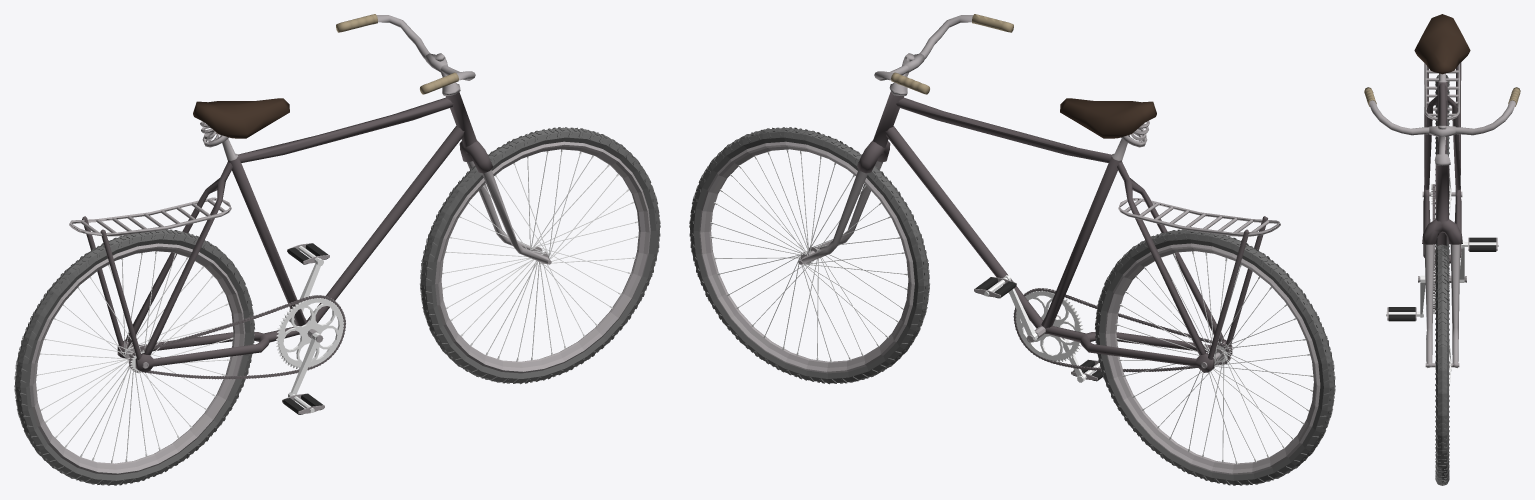
File: old_bicycle.glb
The picture shows the model from 3 angles, left to right: view 1: azimuth 30°, elevation 25°; view 2: azimuth 150°, elevation 25°; view 3: azimuth 270°, elevation 25°; orthographic projection. The views are drawn at different scales.
Visible parts, largest first — view 1: Bicycle-Body, Bicycle-Front-Tire, Bicycle-Back-Tire, Bicycle-Front-Tire-Ring, Bicycle-Back-Tire-Ring, Bicycle-Seat, Bicycle-Front-Tire-Pattern, Bicycle-Back-Tire-Pattern, Bicycle-Center-Gear, Bicycle-Tark, Bicycle-HandleBars, Bicycle-Chain (+9 smaller); view 2: Bicycle-Body, Bicycle-Front-Tire, Bicycle-Back-Tire, Bicycle-Front-Tire-Ring, Bicycle-Back-Tire-Ring, Bicycle-Seat, Bicycle-Front-Tire-Pattern, Bicycle-Back-Tire-Pattern, Bicycle-Tark, Bicycle-HandleBars, Bicycle-Center-Gear, Bicycle-Chain (+9 smaller); view 3: Bicycle-Body, Bicycle-Front-Tire, Bicycle-Seat, Bicycle-Front-Tire-Pattern, Bicycle-HandleBars, Bicycle-Tark, Bicycle-Pedals, Bicycle-Left-Pedal, Bicycle-Right-Pedal, Bicycle-Chain, Bicycle-Hub, Bicycle-Back-Tire-Pattern.
Part boxes in pixels (x1,y1,x2,y2): Bicycle-Body: (82, 53, 549, 372); Bicycle-Front-Tire: (420, 127, 659, 383); Bicycle-Back-Tire: (15, 230, 254, 484); Bicycle-Front-Tire-Ring: (435, 141, 650, 373); Bicycle-Back-Tire-Ring: (29, 243, 245, 474); Bicycle-Seat: (193, 98, 289, 147); Bicycle-Front-Tire-Pattern: (420, 127, 660, 384); Bicycle-Back-Tire-Pattern: (14, 229, 254, 485); Bicycle-Center-Gear: (279, 298, 343, 366); Bicycle-Tark: (69, 197, 231, 236); Bicycle-HandleBars: (336, 14, 475, 94); Bicycle-Chain: (128, 295, 345, 379); Bicycle-Body: (800, 53, 1267, 372); Bicycle-Front-Tire: (690, 127, 929, 383); Bicycle-Back-Tire: (1095, 230, 1334, 484); Bicycle-Front-Tire-Ring: (699, 141, 914, 373); Bicycle-Back-Tire-Ring: (1104, 243, 1320, 474); Bicycle-Seat: (1060, 98, 1156, 147); Bicycle-Front-Tire-Pattern: (689, 127, 929, 384); Bicycle-Back-Tire-Pattern: (1095, 229, 1335, 485); Bicycle-Tark: (1118, 198, 1280, 236); Bicycle-HandleBars: (874, 14, 1013, 94); Bicycle-Center-Gear: (1016, 291, 1080, 360); Bicycle-Chain: (1013, 288, 1230, 372); Bicycle-Body: (1418, 62, 1466, 367); Bicycle-Front-Tire: (1436, 245, 1448, 484); Bicycle-Seat: (1414, 14, 1470, 74); Bicycle-Front-Tire-Pattern: (1435, 244, 1449, 485); Bicycle-HandleBars: (1364, 87, 1520, 135); Bicycle-Tark: (1424, 63, 1460, 120); Bicycle-Pedals: (1386, 241, 1498, 317); Bicycle-Left-Pedal: (1468, 237, 1497, 251); Bicycle-Right-Pedal: (1387, 307, 1416, 321); Bicycle-Chain: (1432, 184, 1435, 313); Bicycle-Hub: (1429, 126, 1455, 137); Bicycle-Back-Tire-Pattern: (1435, 75, 1449, 308).
Bounding box in the file's own units: 15.81 × 8.68 × 3.79.
1 material, 1 textured.
